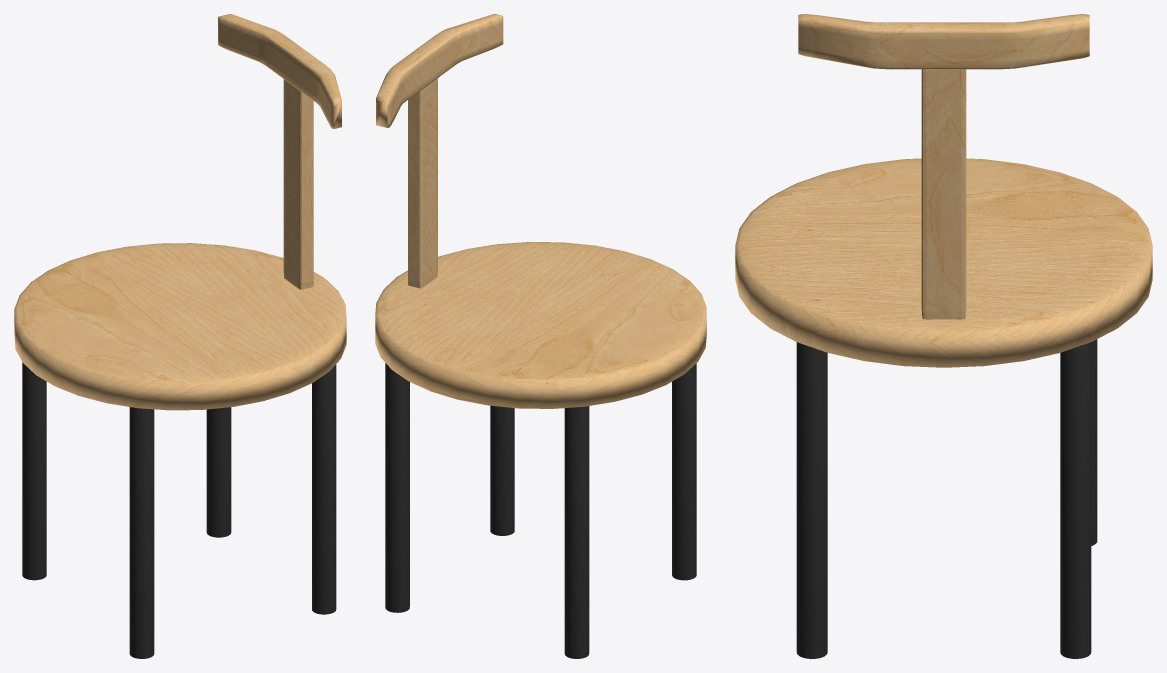
Rendered from cafe_chair.fbx.
The picture shows the model from 3 angles, left to right: view 1: azimuth 30°, elevation 25°; view 2: azimuth 150°, elevation 25°; view 3: azimuth 270°, elevation 25°; orthographic projection. The views are drawn at different scales.
Visible parts, largest first — view 1: Stool, Chair leg 1, Back Rest Support, Chair leg 3, Back Rest, Chair leg 2, Chair leg 4; view 2: Stool, Chair leg 2, Chair leg 4, Back Rest Support, Back Rest, Chair leg 1, Chair leg 3; view 3: Stool, Back Rest, Back Rest Support, Chair leg 3, Chair leg 4, Chair leg 2.
Part boxes in pixels (<box>): Stool: <box>14,243,346,410</box>; Chair leg 1: <box>129,407,154,658</box>; Back Rest Support: <box>283,79,313,289</box>; Chair leg 3: <box>312,364,336,614</box>; Back Rest: <box>218,14,341,128</box>; Chair leg 2: <box>22,362,46,580</box>; Chair leg 4: <box>206,407,231,537</box>; Stool: <box>375,242,706,408</box>; Chair leg 2: <box>564,406,589,658</box>; Chair leg 4: <box>385,363,409,612</box>; Back Rest Support: <box>408,78,437,288</box>; Back Rest: <box>376,14,503,127</box>; Chair leg 1: <box>672,363,696,580</box>; Chair leg 3: <box>490,405,514,535</box>; Stool: <box>735,158,1152,367</box>; Back Rest: <box>798,14,1089,69</box>; Back Rest Support: <box>921,69,966,319</box>; Chair leg 3: <box>796,342,827,658</box>; Chair leg 4: <box>1060,342,1091,658</box>; Chair leg 2: <box>1091,339,1097,545</box>.
Size of the model in its own units: 95 by 162 by 95.
